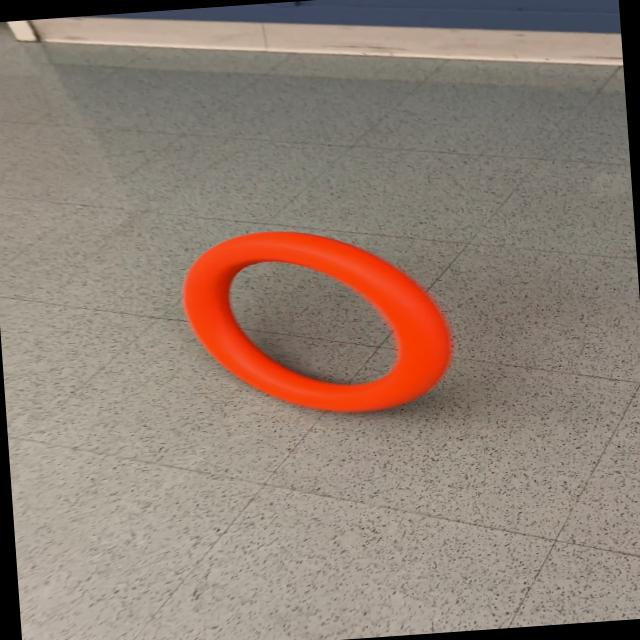note: (174, 217, 458, 425)
